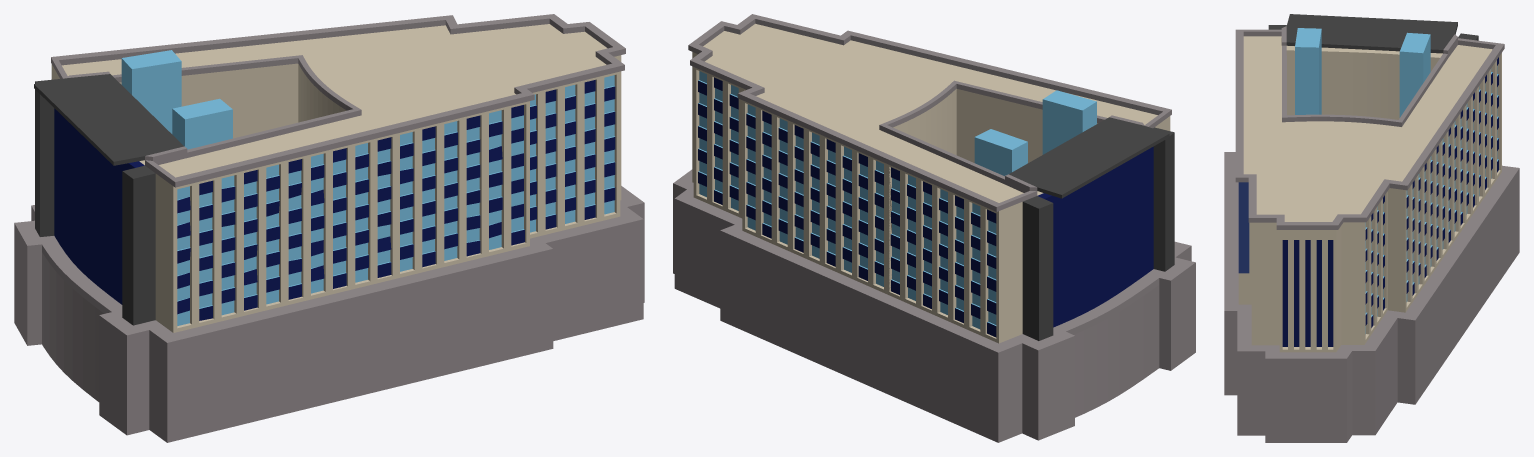
The model's file is batiment.glb.
The picture shows the model from 3 angles, left to right: view 1: azimuth 30°, elevation 25°; view 2: azimuth 150°, elevation 25°; view 3: azimuth 270°, elevation 25°; orthographic projection. The views are drawn at different scales.
Parts seen in each view (by area): view 1: Curve; view 2: Curve; view 3: Curve.
Part boxes in pixels (x1,y1,x2,y2): Curve: [14, 14, 644, 442]; Curve: [673, 14, 1195, 442]; Curve: [1224, 14, 1519, 442].
Bounding box in the file's own units: 3.55 × 1.79 × 2.05.
